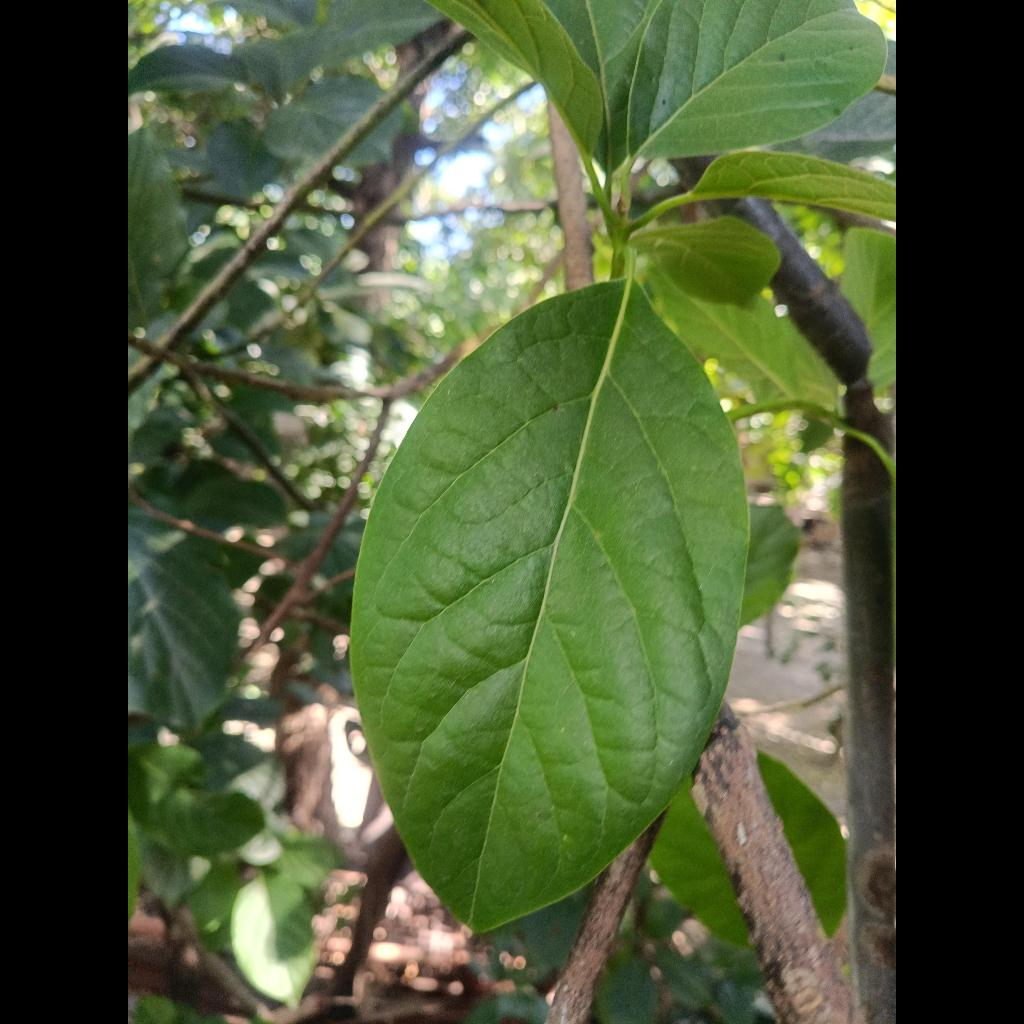hoja_sana: (350, 279, 749, 930)
